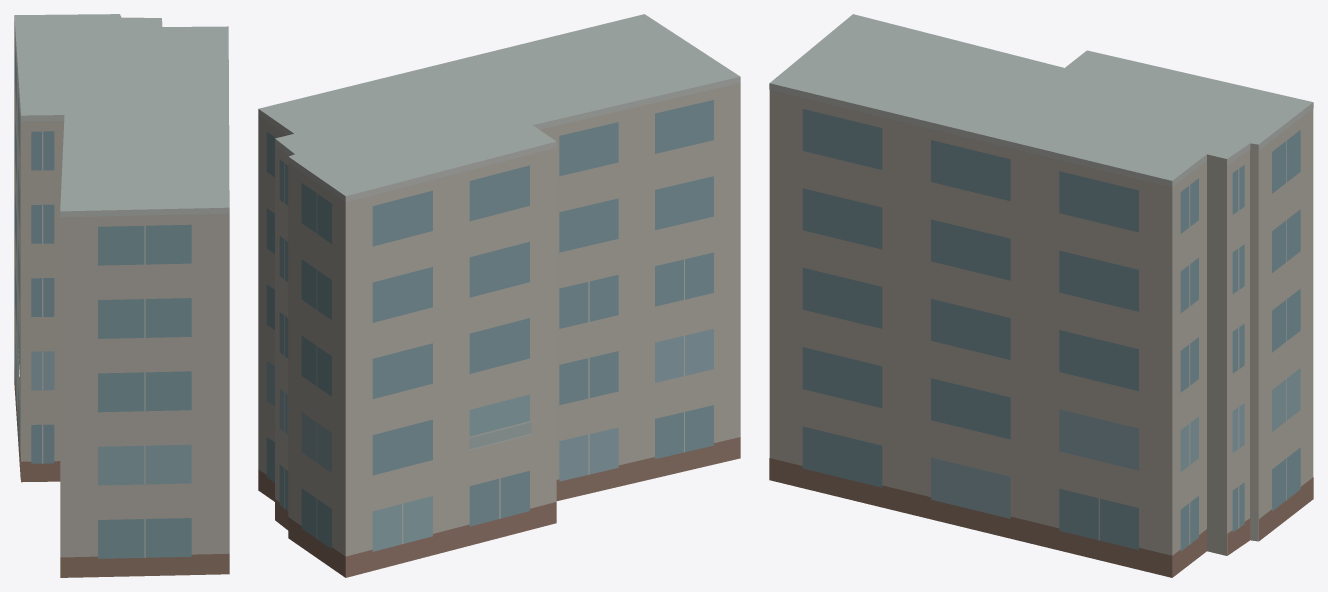
The model's file is survey-upis-33004232.glb.
The picture shows the model from 3 angles, left to right: view 1: azimuth 30°, elevation 25°; view 2: azimuth 150°, elevation 25°; view 3: azimuth 270°, elevation 25°; orthographic projection. The views are drawn at different scales.
Parts seen in each view (by area): view 1: survey-upis-33004232.tmp; view 2: survey-upis-33004232.tmp; view 3: survey-upis-33004232.tmp.
Part boxes in pixels (<box>): survey-upis-33004232.tmp: <box>14,14,229,577</box>; survey-upis-33004232.tmp: <box>258,14,740,577</box>; survey-upis-33004232.tmp: <box>769,14,1313,577</box>.
Size of the model in its own units: 13.76 by 15.25 by 18.95.
